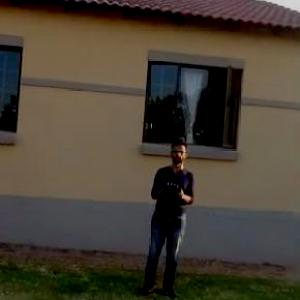follow: (136, 135, 198, 299)
